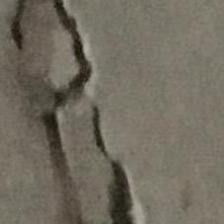Crack: (3, 0, 142, 224)
